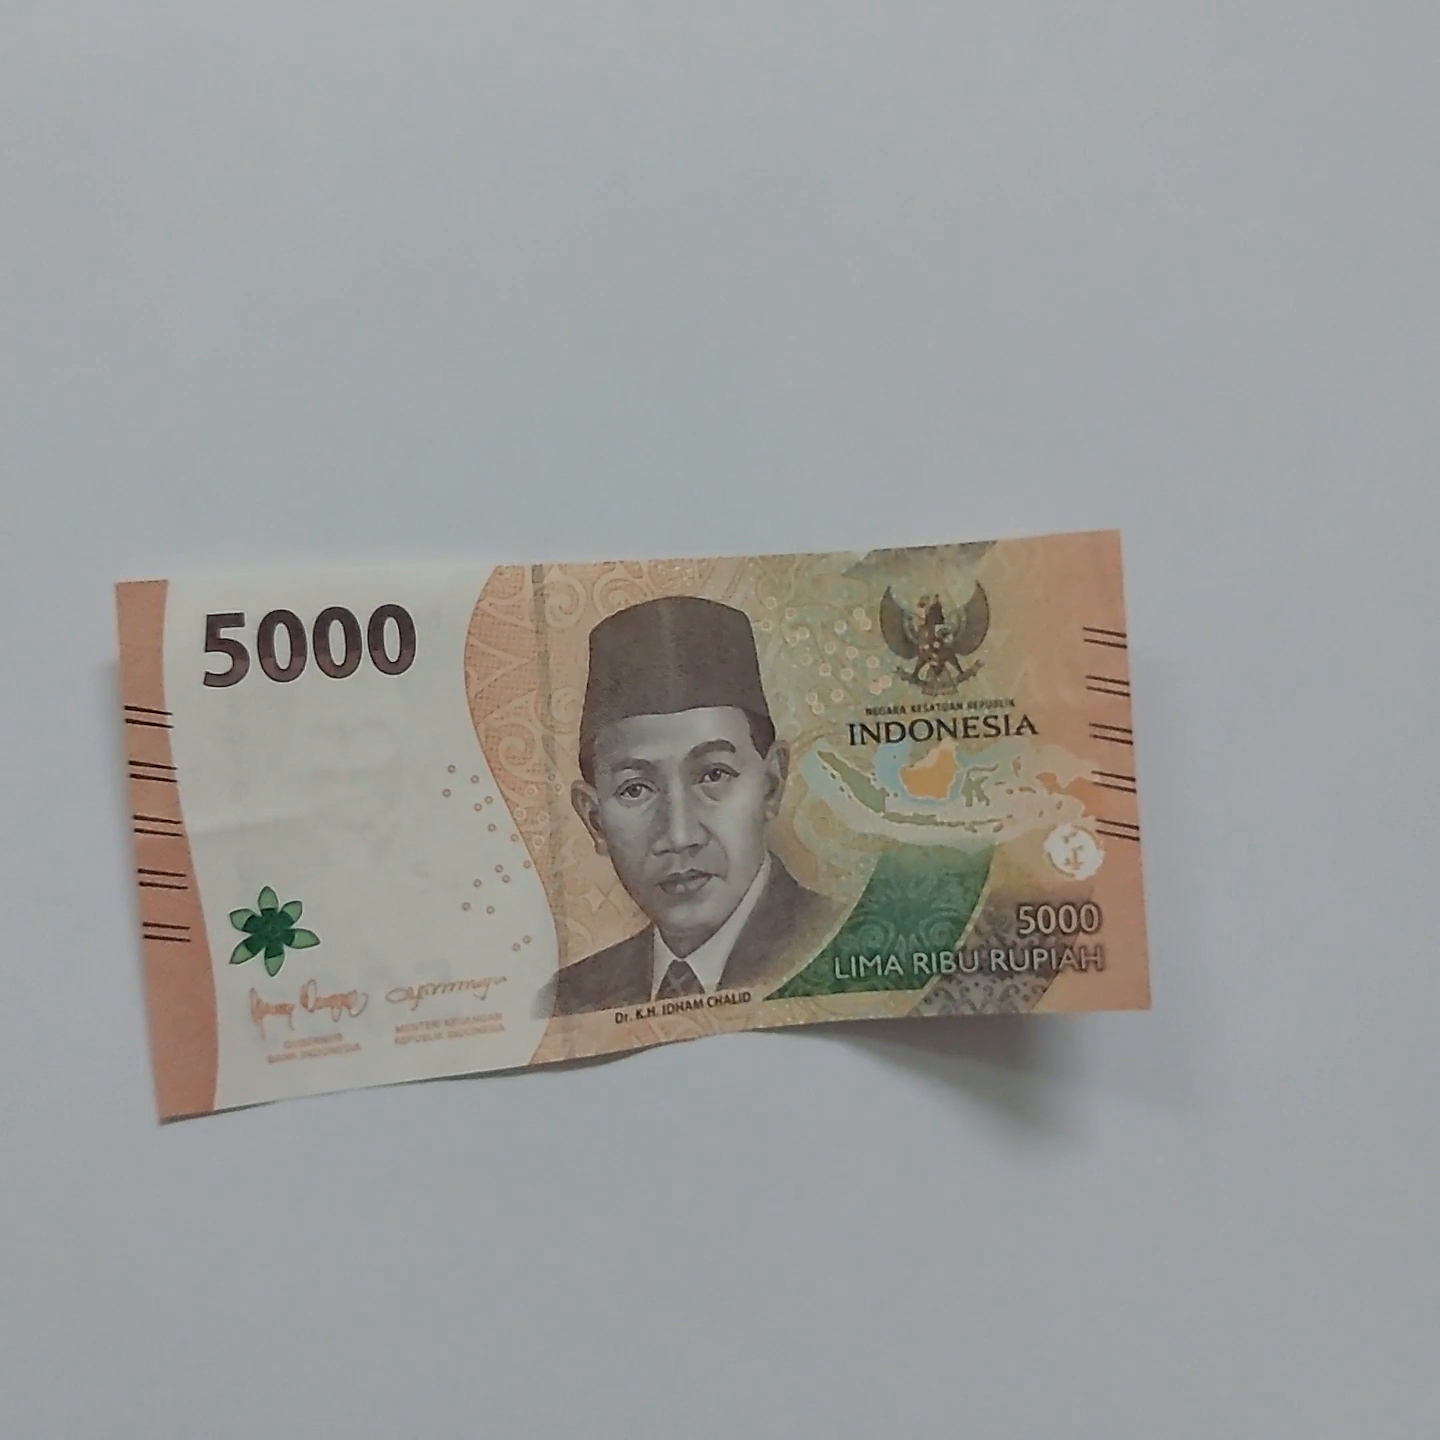5k: (57, 518, 1230, 1134)
